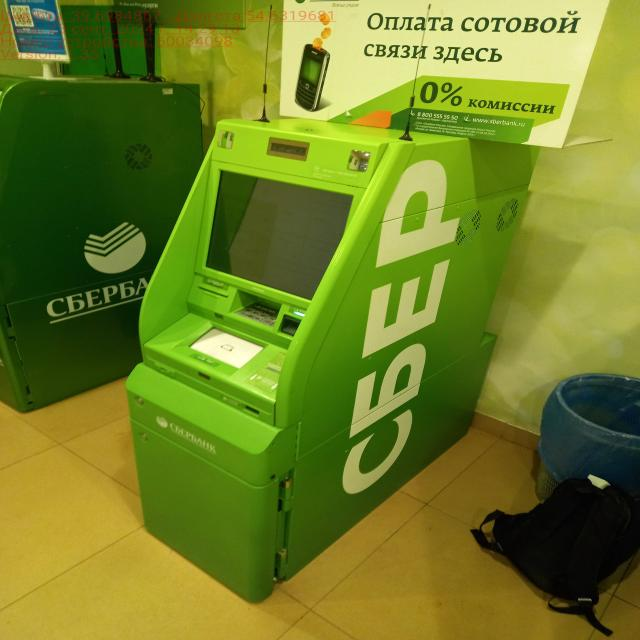bank: (133, 110, 535, 612), (0, 70, 213, 409)
